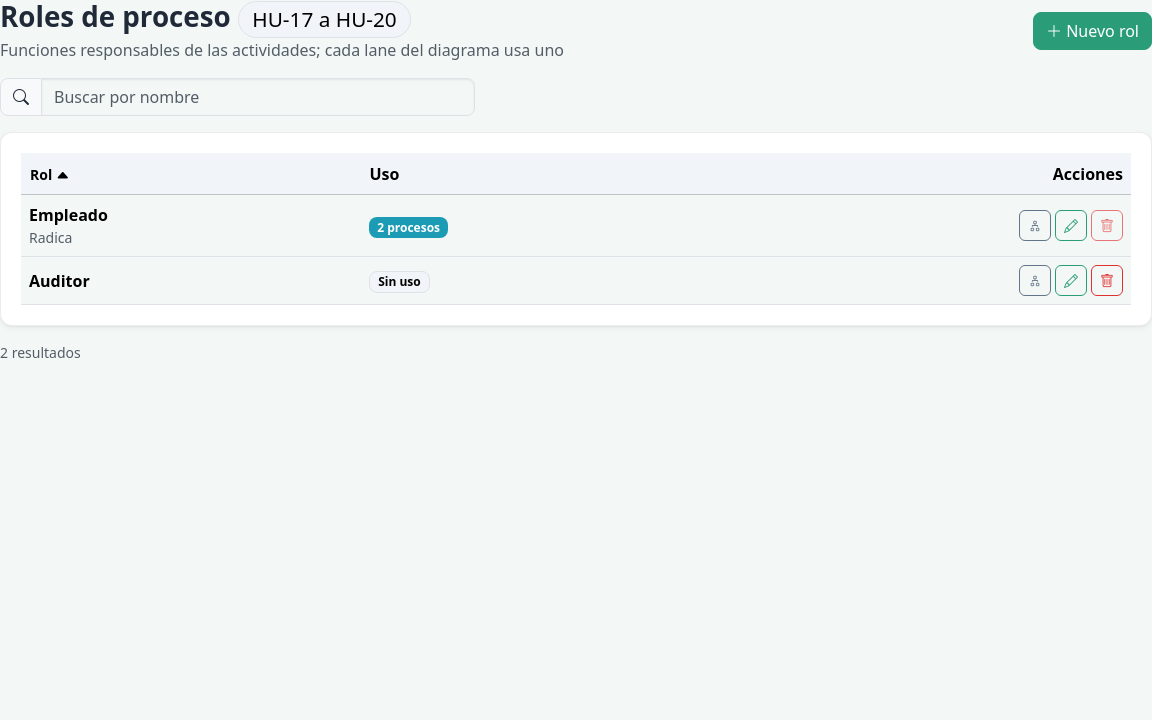
RolesProcesoComponent (HU-17 a HU-20) › elimina un rol sin uso con confirmación
Step 1. Click the button named "Eliminar Auditor" → [1107, 281], box [1091,265,1123,296]
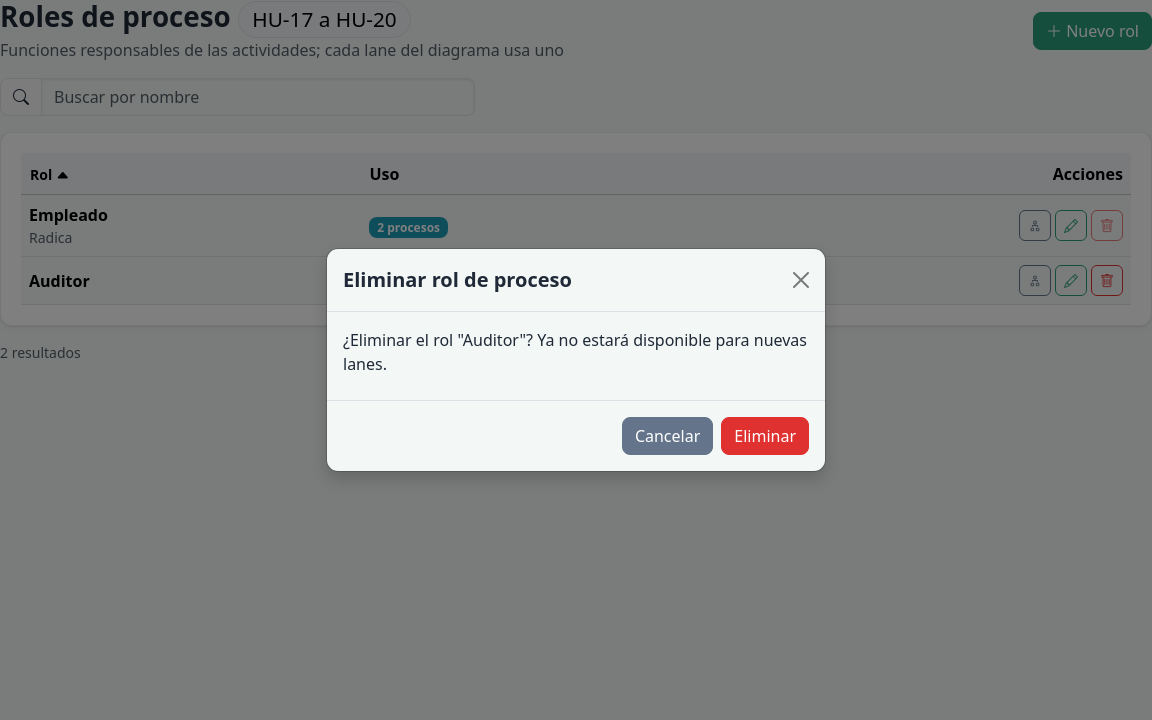
Step 2. Click the button with id "confirmarEliminarBtn" → [765, 436], box [721,417,809,455]
Wait 300 ms
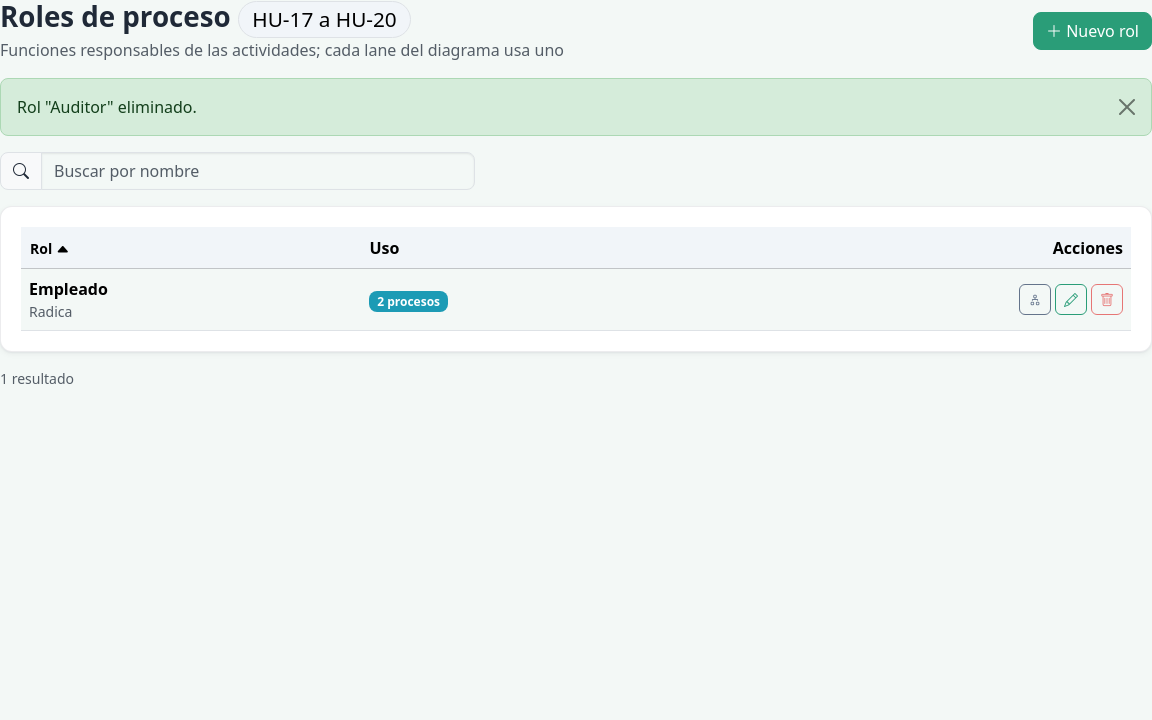
Check: the element with id "avisoRoles" reads "Rol \"Auditor\" eliminado.", box [17,96,197,118]
